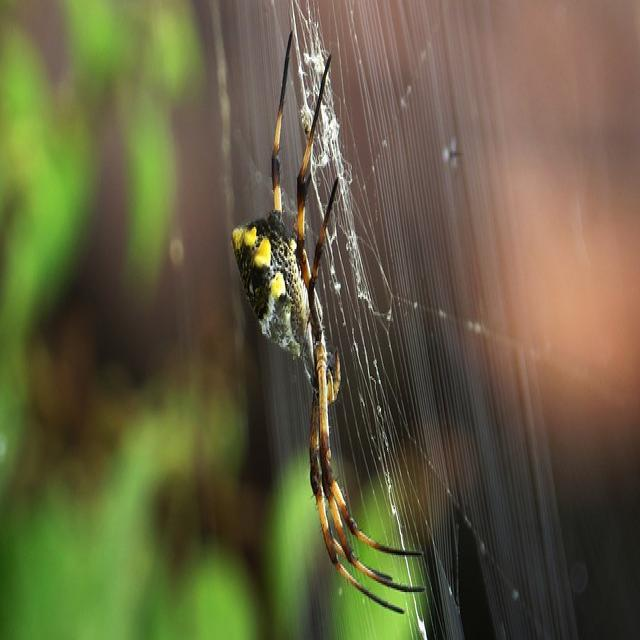spyder: (232, 35, 419, 594)
